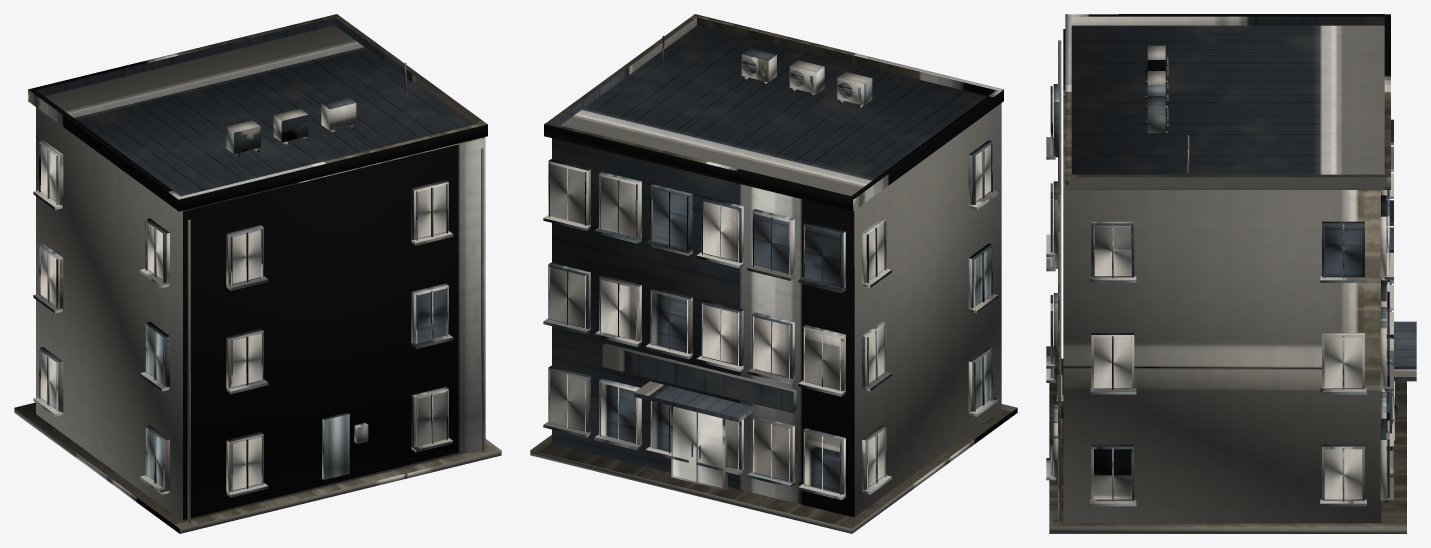
File: public_005.lod1.obj
3 views of the same model, side by side, from view 1: azimuth 30°, elevation 25°; view 2: azimuth 150°, elevation 25°; view 3: azimuth 270°, elevation 25° (orthographic). The views are drawn at different scales.
Parts seen in each view (by area): view 1: public_005; view 2: public_005; view 3: public_005.
Boxes of the visible parts, left/top/right/bottom form: public_005: left=14, top=14, right=501, bottom=533; public_005: left=530, top=14, right=1017, bottom=533; public_005: left=1046, top=14, right=1416, bottom=533.
Size of the model in its own units: 10.1 by 10.6 by 9.32.
Materials: 1 (1 with a texture image).
